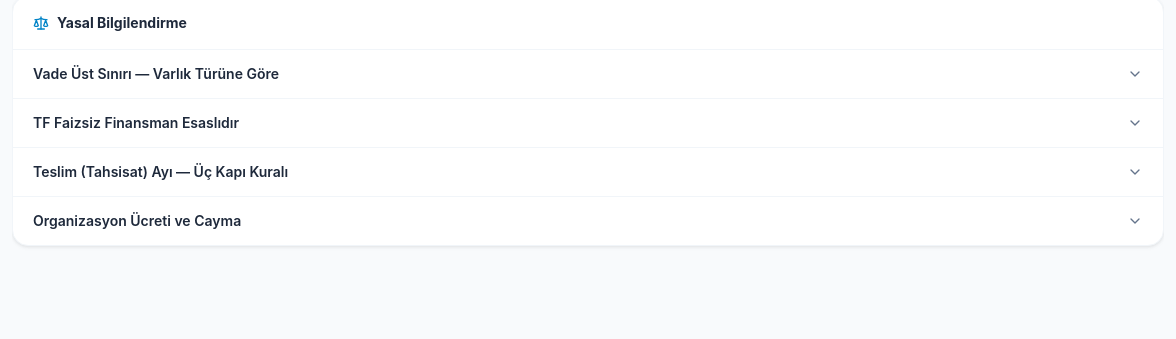
Test: OptimizerYasalPaneli — BDDK citations › Faizsizlik item cites Kanun 6361 m. 3/l + m. 39/B
The image size is (1176, 339).
Click the button "TF Faizsiz Finansman Esaslıdır" at (136, 122), box [13,99,1163,147]
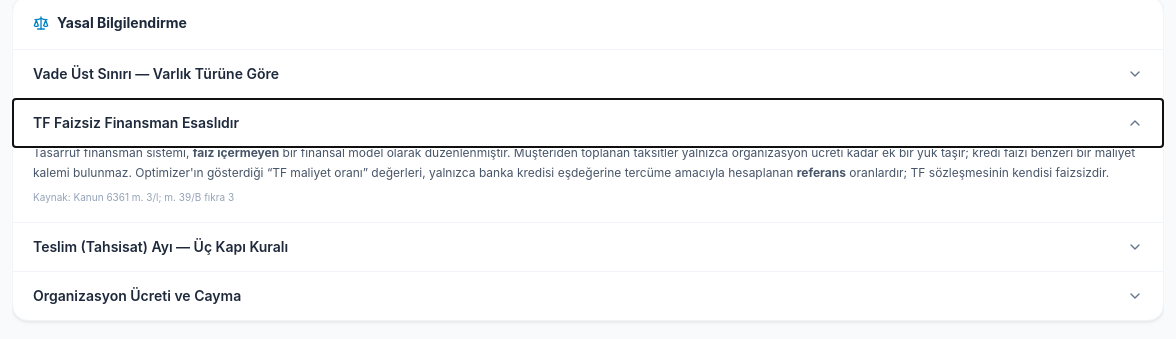
Result: the text "Kanun 6361 m. 3/l" is shown at [74,191,234,203]
Result: the text "m. 39/B fıkra 3" is shown at [74,191,234,203]
